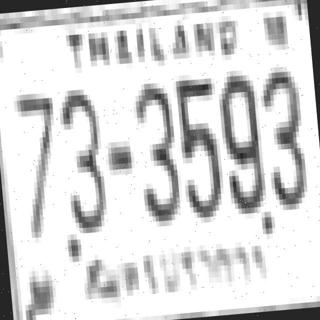N03: (130, 76, 181, 222), (55, 83, 106, 229), (258, 62, 308, 209)
N05: (174, 73, 221, 219)
N07: (12, 86, 64, 238)
N09: (217, 72, 264, 212)
P57: (78, 231, 275, 314)
